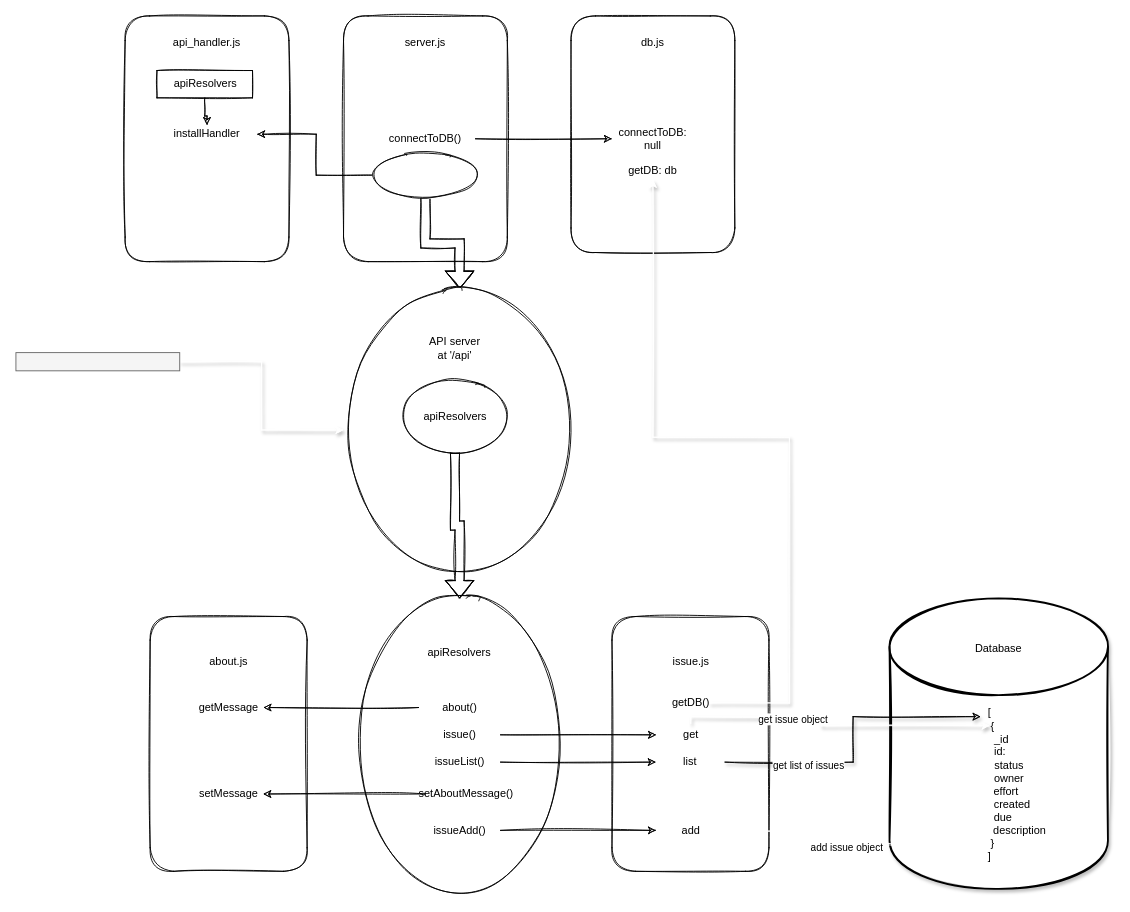
The diagram is 1130 pixels wide and 912 high, and some of its shapes have lost their labels. The centre of each missing label's shape, as x and y in pixels:
"graphQL queries from frontend" goes at (97,361).
"installHandler()" goes at (425,175).
